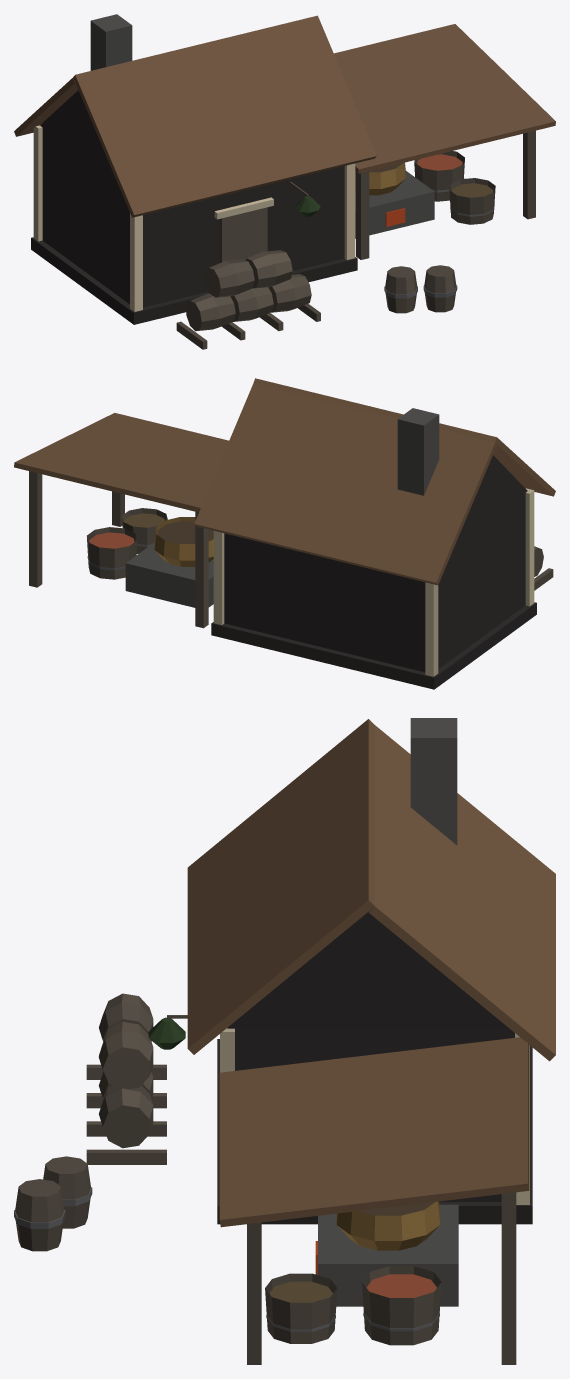
File: walk_ashen_brewery.glb
3 renders of one model, top to bottom at view 1: azimuth 30°, elevation 25°; view 2: azimuth 150°, elevation 25°; view 3: azimuth 270°, elevation 25°, orthographic. The views are drawn at different scales.
Visible parts, largest first — view 1: walk_ashen_brewery_roof, walk_ashen_brewery; view 2: walk_ashen_brewery_roof, walk_ashen_brewery; view 3: walk_ashen_brewery_roof, walk_ashen_brewery.
Part boxes in pixels (<box>): walk_ashen_brewery_roof: <box>14,14,555,217</box>; walk_ashen_brewery: <box>31,90,535,349</box>; walk_ashen_brewery_roof: <box>14,378,555,585</box>; walk_ashen_brewery: <box>29,455,553,689</box>; walk_ashen_brewery_roof: <box>187,718,555,1227</box>; walk_ashen_brewery: <box>14,912,532,1364</box>.
Size of what is drawn, in the model's own units: 11.4 by 6.01 by 8.08.
2 materials, 2 textured.
